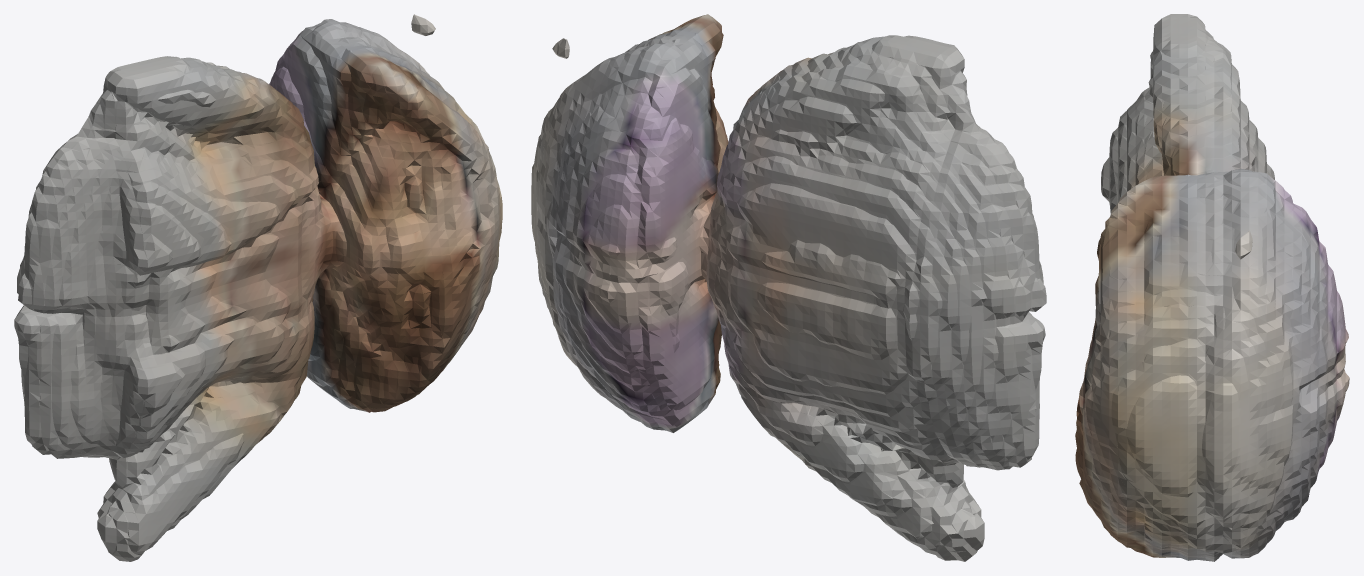
3 views of the same model, side by side, from view 1: azimuth 30°, elevation 25°; view 2: azimuth 150°, elevation 25°; view 3: azimuth 270°, elevation 25° (orthographic). The views are drawn at different scales.
Visible parts, largest first — view 1: world; view 2: world; view 3: world.
Part boxes in pixels (box(x1,y1,x2,y2)): world: box(14, 14, 502, 561); world: box(531, 14, 1046, 561); world: box(1075, 14, 1349, 561).
Bounding box in the file's own units: 0.8883 × 0.8762 × 0.4294.
